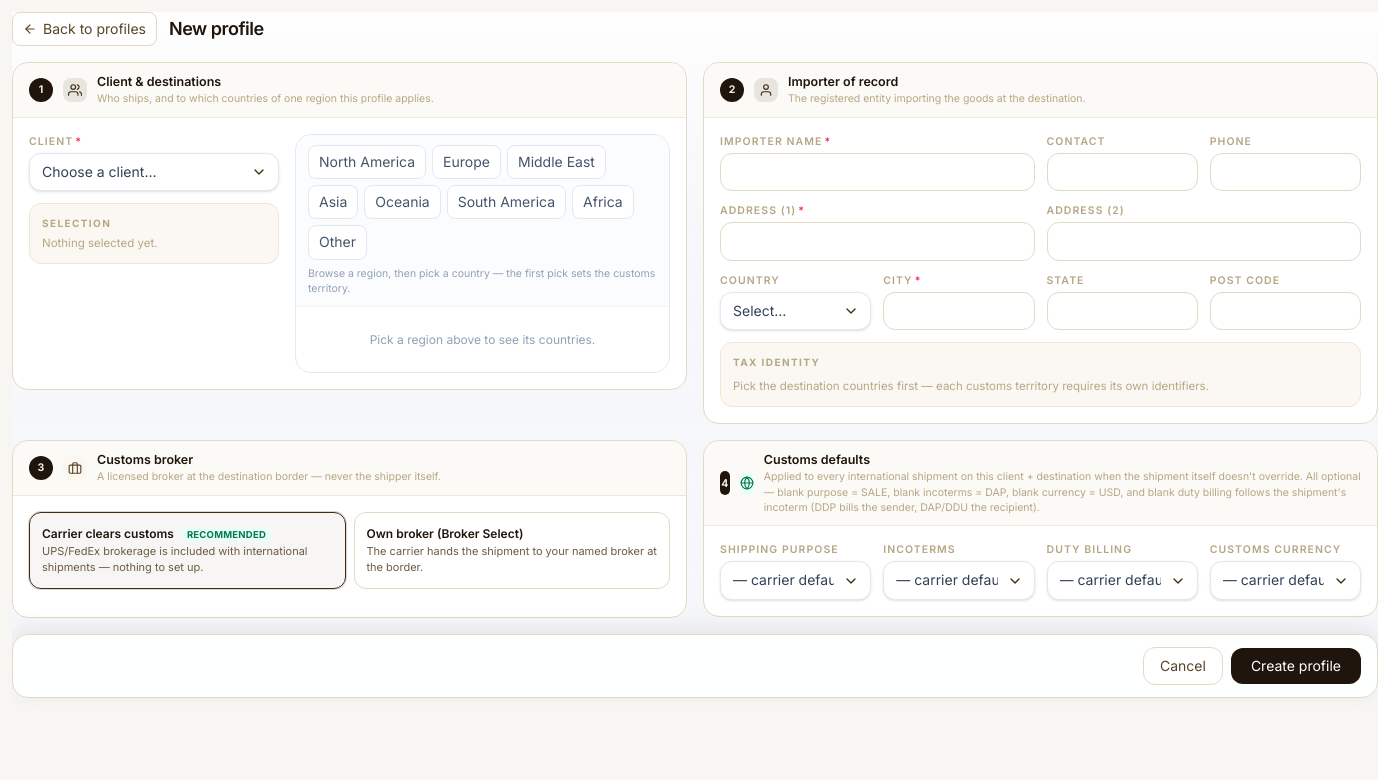
Test: CustomsProfileModal › BUG-103: a failing Create scrolls to the first error and sends nothing
Click the button "Create profile". click: (1296,666)
box: [1231,648,1361,684]
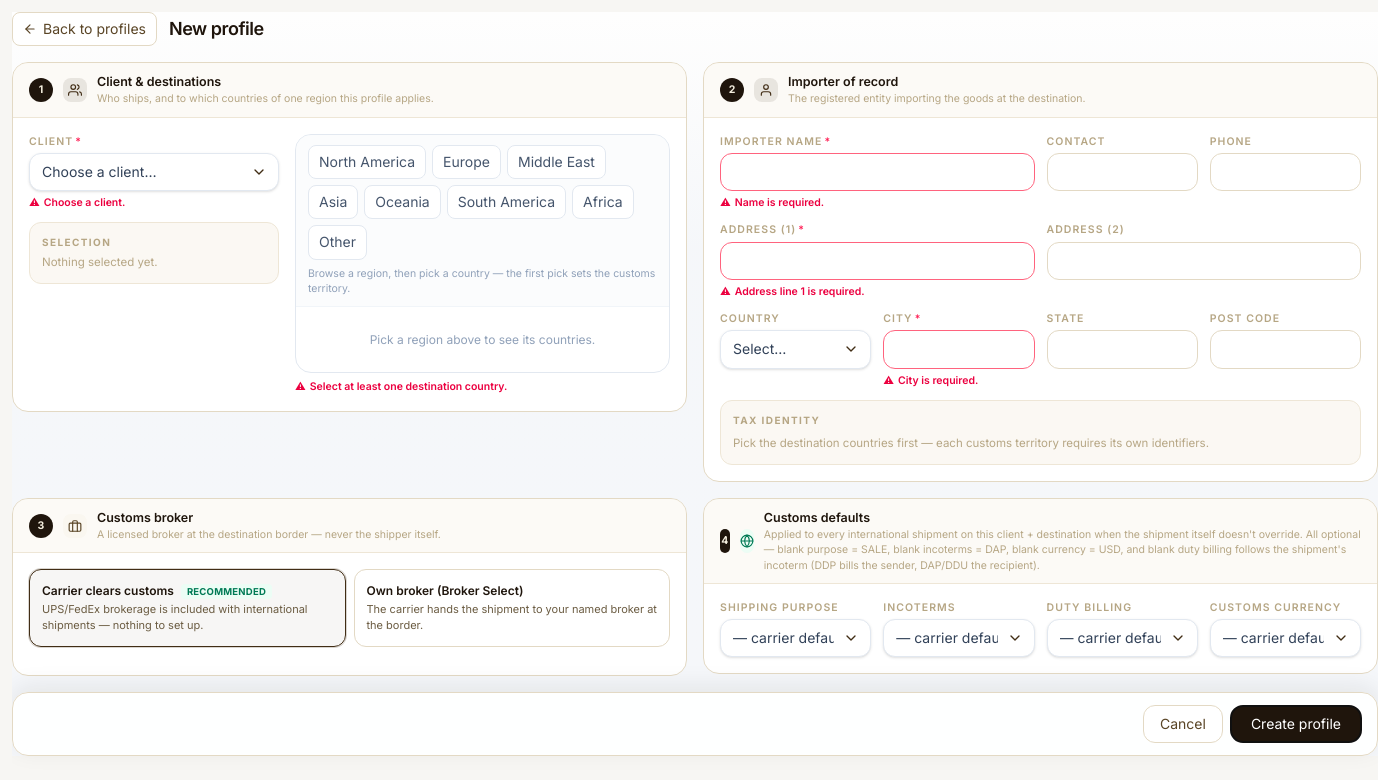
Check: the text "Choose a client." is shown, box [44,196,125,209]
